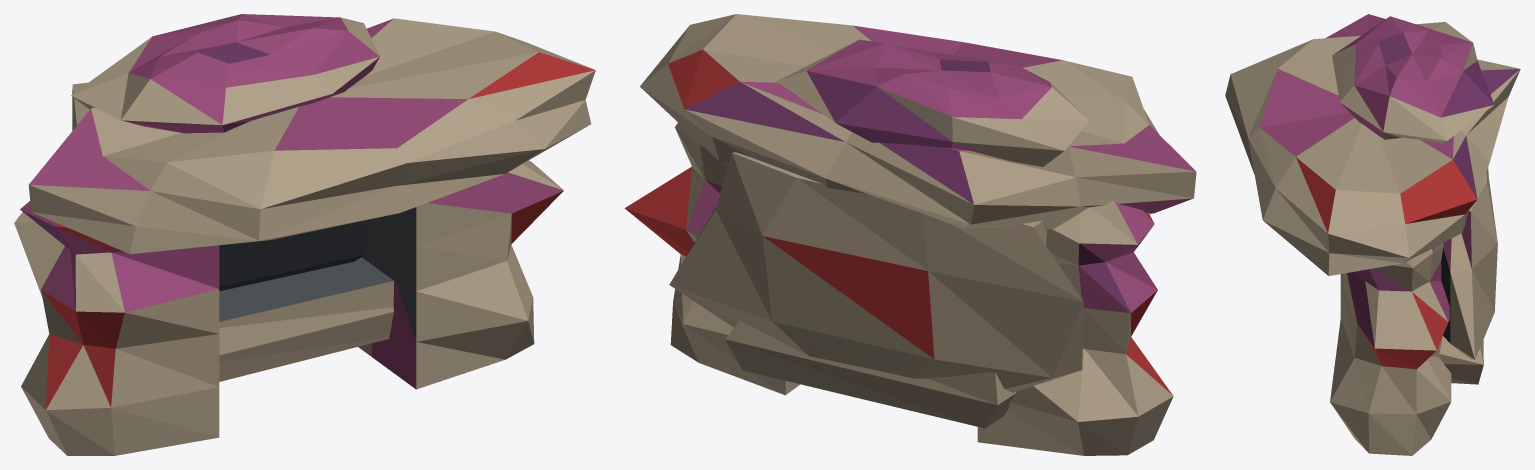
Rendered from rock-cave-ledge-2a9532.glb.
3 renders of one model, left to right at view 1: azimuth 30°, elevation 25°; view 2: azimuth 150°, elevation 25°; view 3: azimuth 270°, elevation 25°, orthographic. The views are drawn at different scales.
Parts seen in each view (by area): view 1: rock-stack, crown-rock; view 2: rock-stack, crown-rock; view 3: rock-stack, crown-rock.
Boxes of the visible parts, left/top/right/bottom form: rock-stack: left=14, top=18, right=595, bottom=455; crown-rock: left=71, top=14, right=379, bottom=133; rock-stack: left=624, top=14, right=1196, bottom=455; crown-rock: left=776, top=39, right=1089, bottom=166; rock-stack: left=1225, top=14, right=1520, bottom=455; crown-rock: left=1332, top=16, right=1494, bottom=143.
Size of the model in its own units: 0.4073 by 0.2524 by 0.2305.
